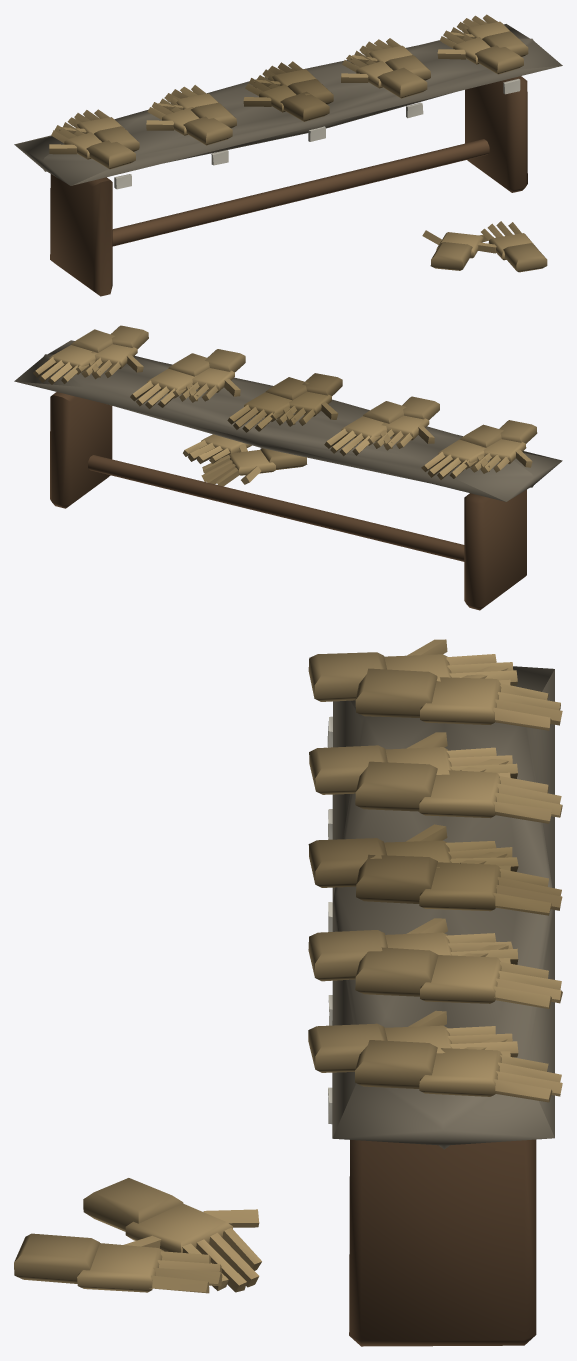
Rendered from glove_bench_b.glb.
3 renders of one model, top to bottom at view 1: azimuth 30°, elevation 25°; view 2: azimuth 150°, elevation 25°; view 3: azimuth 270°, elevation 25°, orthographic. The views are drawn at different scales.
Visible parts, largest first — view 1: Surface; view 2: Surface; view 3: Surface.
Part boxes in pixels (x1,y1,x2,y2): Surface: (14,14,562,296); Surface: (14,325,562,610); Surface: (14,639,562,1346).
Bounding box in the file's own units: 1.9 × 0.5806 × 0.9371.
